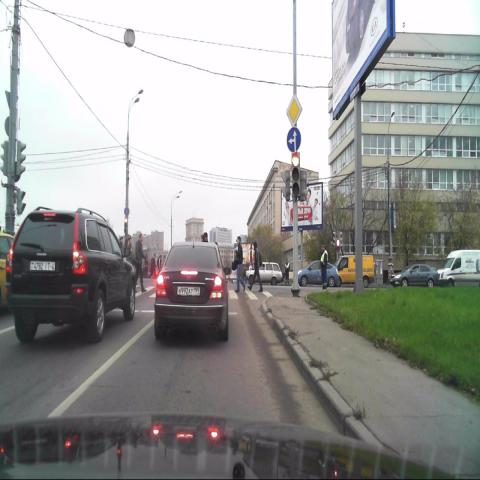4_1_5: (287, 127, 301, 152)
